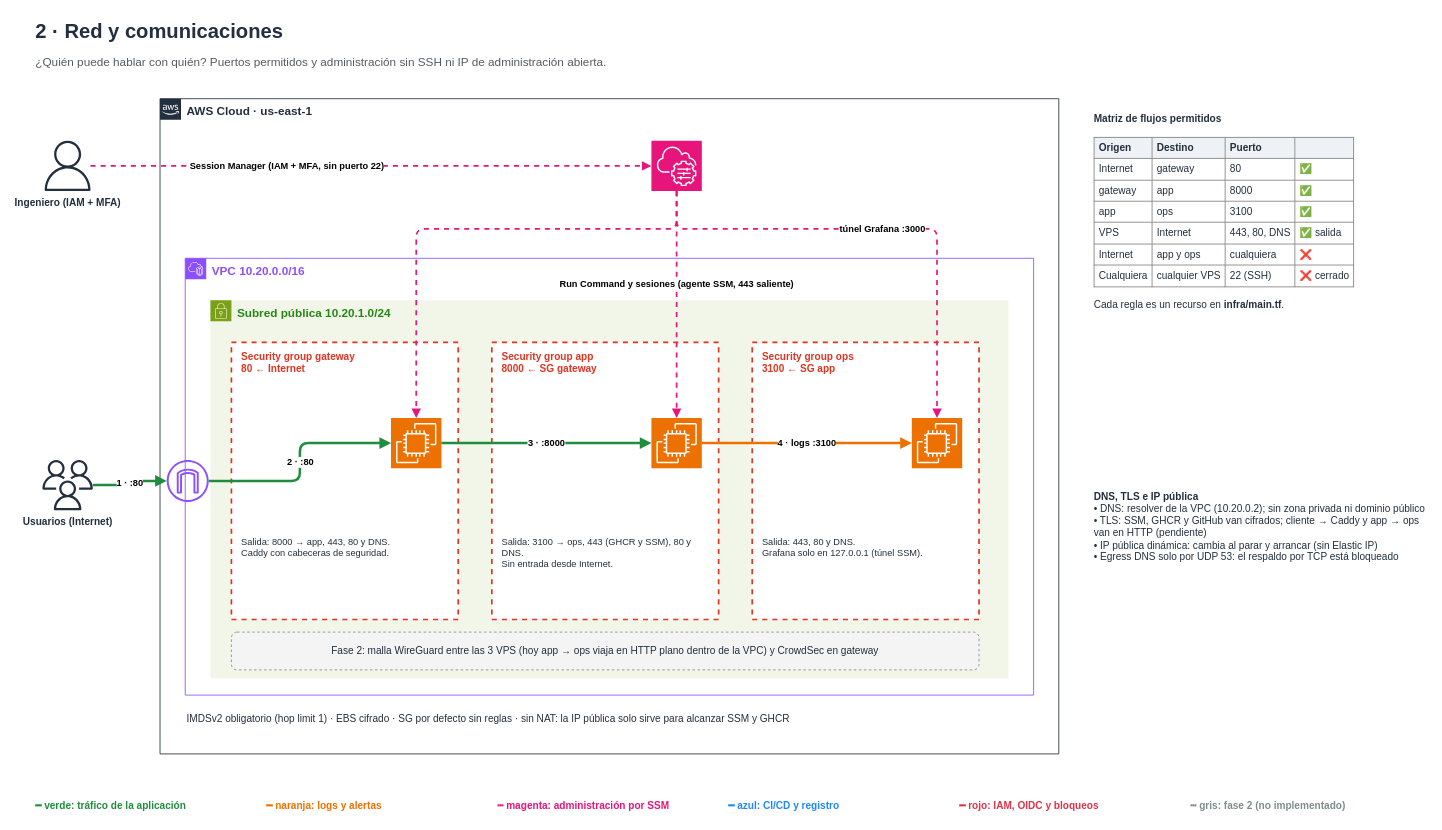
The diagram is 1442 pixels wide and 830 high, and some of its shapes have lost their labels. The centre of each missing label's shape, as x and y in pixels:
EC2 app: the point at 676,442
EC2 gateway: the point at 415,442
EC2 ops: the point at 936,442
Internet Gateway: the point at 187,480
Systems Manager Session Manager + Run Command: the point at 676,165
